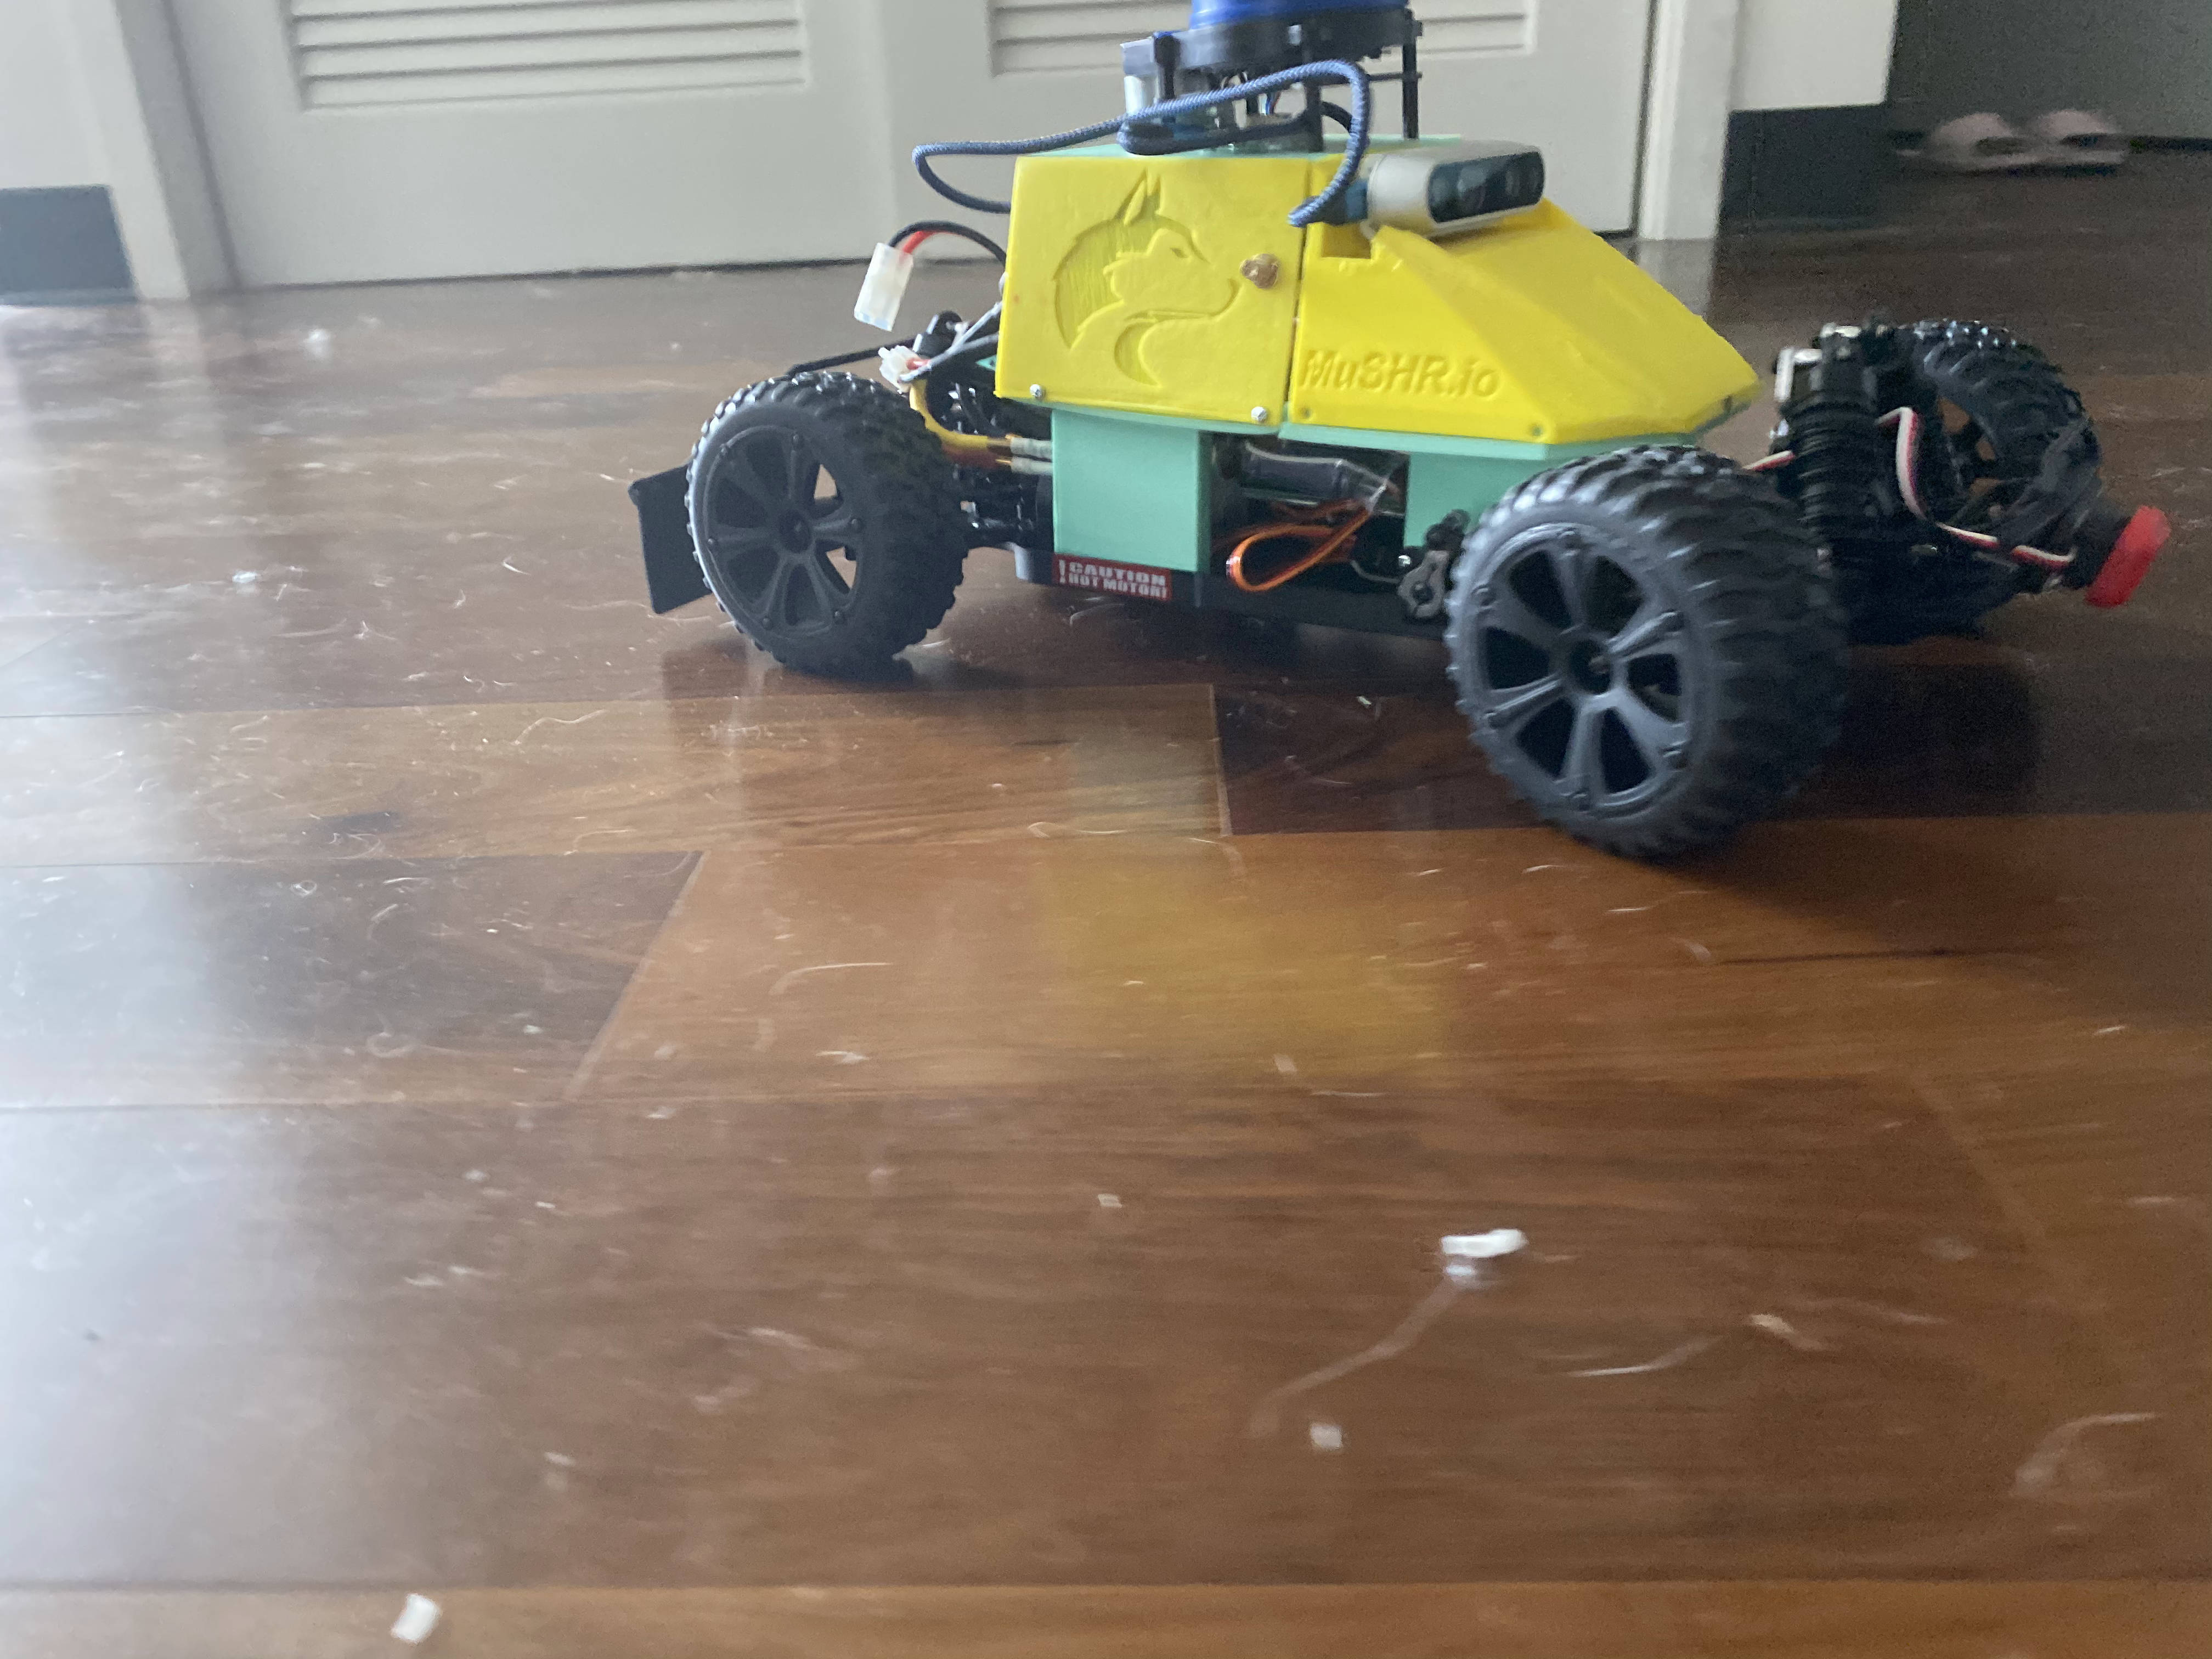mushr_car: (603, 5, 2182, 856)
